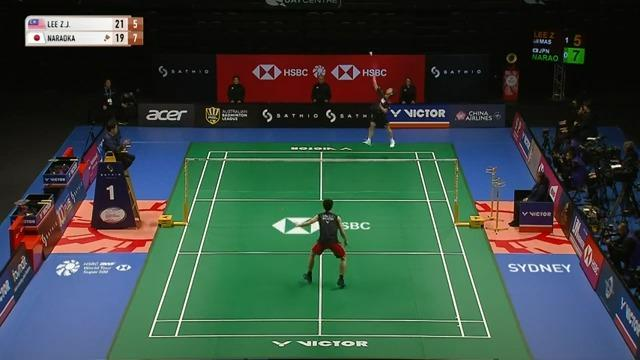Shuttlecock: (367, 49, 375, 58)
